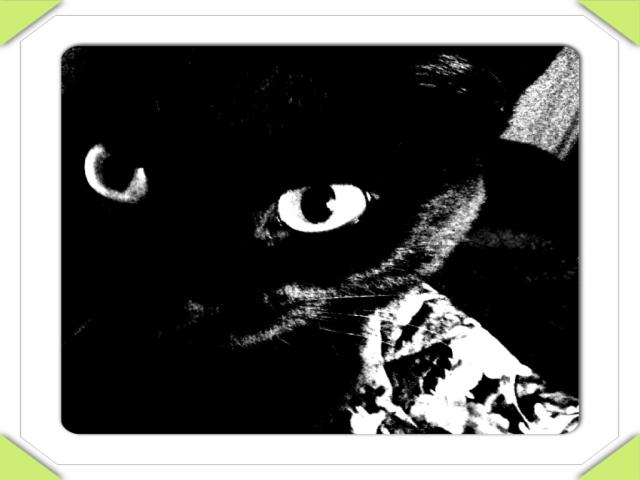Cat: (57, 47, 585, 437)
